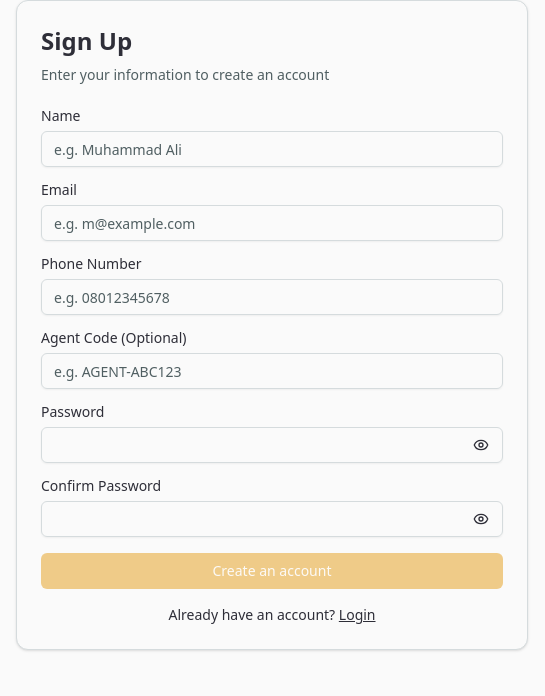
Test: RegisterForm Component › Form Validation › should show error when password is too short
This screenshot has width=545, height=696.
Type "short" into the password field labelled "Password" at (272, 445), box x1=41 y1=427 x2=503 y2=463
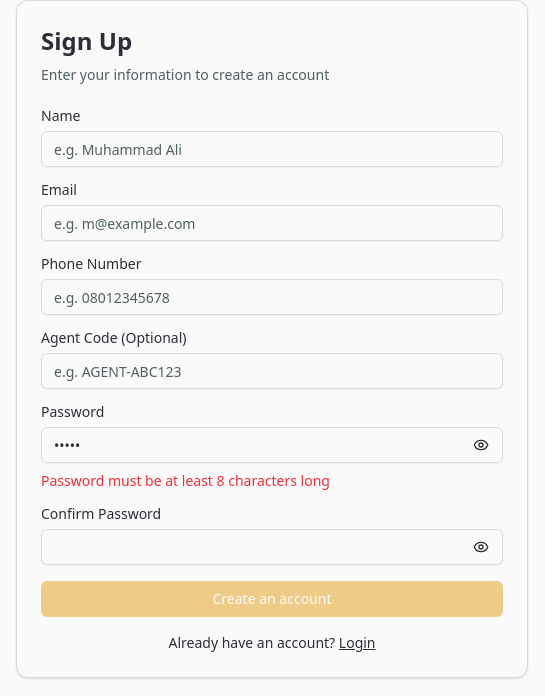
expect the text "Password must be at least 8 characters long" is shown: met, box x1=41 y1=471 x2=330 y2=490
